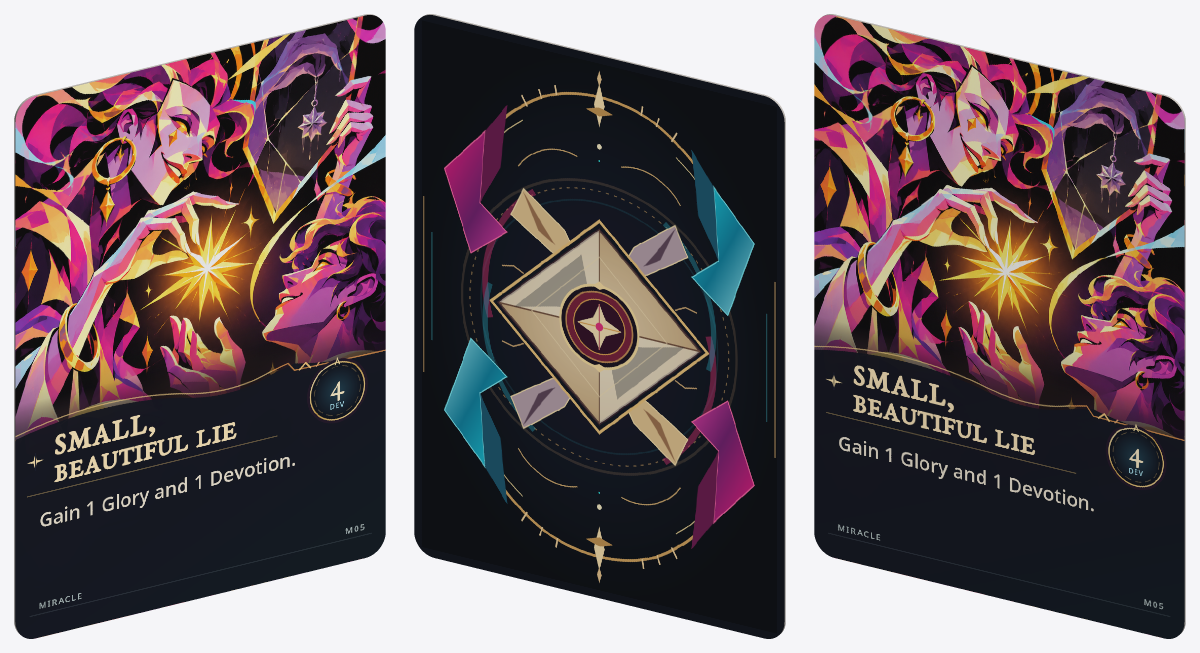
The model's file is SGLD_M05_MIRACLE_POKER_CARD_3D_v0.2-P.glb.
3 views of the same model, side by side, from view 1: azimuth 30°, elevation 25°; view 2: azimuth 150°, elevation 25°; view 3: azimuth 330°, elevation 25° (orthographic).
Visible parts, largest first — view 1: M05_FRONT, M05_EDGE; view 2: M05_BACK, M05_EDGE; view 3: M05_FRONT, M05_EDGE.
Boxes of the visible parts, bbox=[...] form: M05_FRONT: bbox=[15, 15, 385, 638]; M05_EDGE: bbox=[14, 14, 377, 633]; M05_BACK: bbox=[414, 15, 784, 638]; M05_EDGE: bbox=[422, 14, 785, 633]; M05_FRONT: bbox=[814, 15, 1184, 638]; M05_EDGE: bbox=[822, 14, 1185, 633].
Bounding box in the file's own units: 0.0635 × 0.0889 × 0.00038.
3 materials, 2 textured.
